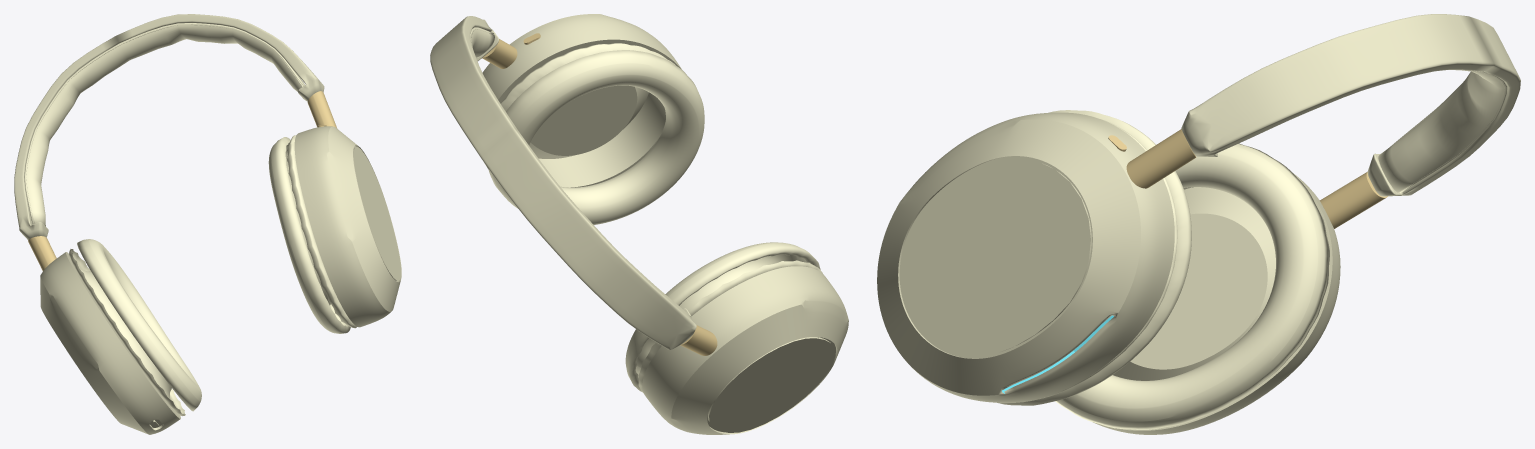
File: Headphone.glb
3 views of the same model, side by side, from view 1: azimuth 30°, elevation 25°; view 2: azimuth 150°, elevation 25°; view 3: azimuth 270°, elevation 25° (orthographic). The views are drawn at different scales.
Visible parts, largest first — view 1: Circle, Circle.004, Circle.006, Cube.004, Cube.003, Circle.005; view 2: Circle.006, Circle.004, Cube.003, Circle, Circle.005, Cube.004; view 3: Circle, Circle.004, Cube.003, Circle.006, Cube.004, Circle.005.
Part boxes in pixels (<box>): Circle: <box>294,126,401,327</box>; Circle.004: <box>69,135,356,416</box>; Circle.006: <box>40,252,180,434</box>; Cube.004: <box>24,23,304,226</box>; Cube.003: <box>14,14,324,239</box>; Circle.005: <box>28,91,337,270</box>; Circle.006: <box>642,266,848,434</box>; Circle.004: <box>488,43,822,393</box>; Cube.003: <box>430,16,696,349</box>; Circle: <box>482,14,681,187</box>; Circle.005: <box>482,39,717,355</box>; Cube.004: <box>470,27,494,57</box>; Circle: <box>877,112,1174,402</box>; Circle.004: <box>997,110,1329,429</box>; Cube.003: <box>1181,14,1520,196</box>; Circle.006: <box>1093,173,1340,434</box>; Cube.004: <box>1216,69,1507,193</box>; Circle.005: <box>1126,129,1387,228</box>.
Size of the model in its own units: 3.94 by 4.11 by 4.67.
